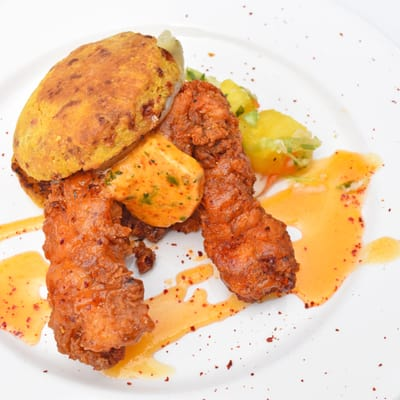curry: (2, 1, 398, 368)
